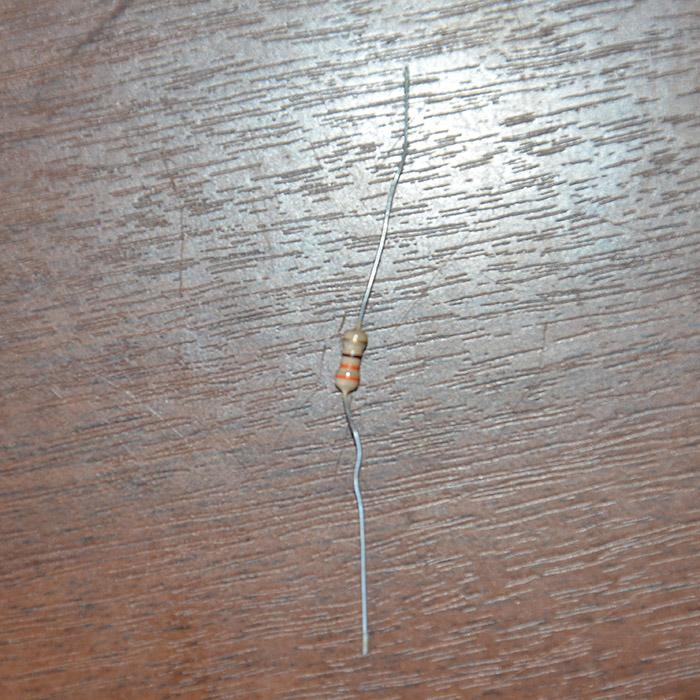resistor: (333, 324, 368, 396)
